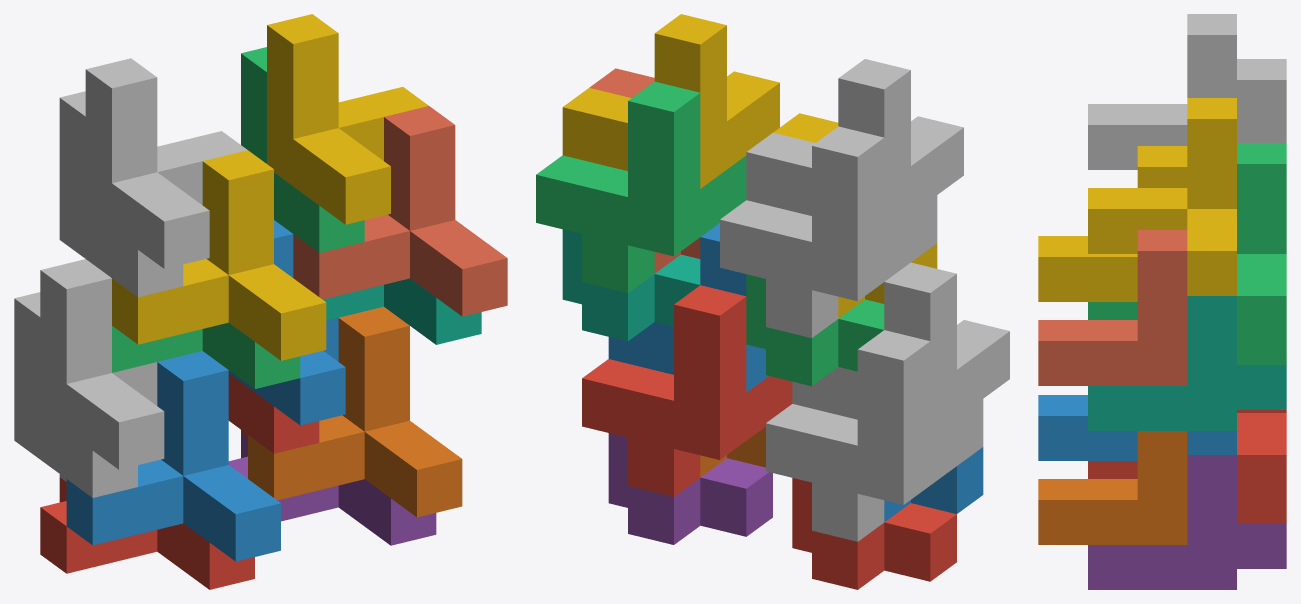
The model's file is tiling.obj.
3 renders of one model, left to right at view 1: azimuth 30°, elevation 25°; view 2: azimuth 150°, elevation 25°; view 3: azimuth 270°, elevation 25°, orthographic. The views are drawn at different scales.
Visible parts, largest first — view 1: copy_1_domain_4, copy_1_domain_2, copy_1_domain_8, copy_1_domain_6, copy_2_domain_4, copy_2_domain_8, copy_2_domain_2, copy_2_domain_1, copy_2_domain_3, copy_1_domain_1, copy_2_domain_7, copy_1_domain_3 (+4 smaller); view 2: copy_2_domain_1, copy_2_domain_3, copy_2_domain_7, copy_2_domain_5, copy_2_domain_4, copy_2_domain_8, copy_2_domain_2, copy_1_domain_1, copy_1_domain_5, copy_1_domain_7, copy_1_domain_3, copy_2_domain_6 (+4 smaller); view 3: copy_2_domain_8, copy_1_domain_8, copy_1_domain_5, copy_1_domain_7, copy_1_domain_6, copy_2_domain_7, copy_2_domain_4, copy_1_domain_4, copy_2_domain_5, copy_1_domain_2, copy_2_domain_3, copy_2_domain_6 (+2 smaller).
Part boxes in pixels (box(x1,y1,x2,y2)): copy_1_domain_4: box(112, 150, 326, 360); copy_1_domain_2: box(66, 351, 280, 561); copy_1_domain_8: box(293, 106, 507, 316); copy_1_domain_6: box(248, 306, 462, 517); copy_2_domain_4: box(85, 58, 247, 268); copy_2_domain_8: box(267, 14, 428, 224); copy_2_domain_2: box(40, 259, 164, 469); copy_2_domain_1: box(14, 292, 137, 497); copy_2_domain_3: box(59, 91, 183, 297); copy_1_domain_1: box(40, 477, 254, 589); copy_2_domain_7: box(241, 47, 364, 252); copy_1_domain_3: box(112, 322, 300, 388); copy_2_domain_1: box(766, 330, 983, 541); copy_2_domain_3: box(720, 126, 937, 337); copy_2_domain_7: box(536, 81, 746, 293); copy_2_domain_5: box(582, 285, 792, 496); copy_2_domain_4: box(746, 59, 963, 233); copy_2_domain_8: box(562, 14, 779, 188); copy_2_domain_2: box(792, 262, 1009, 436); copy_1_domain_1: box(792, 478, 956, 589); copy_1_domain_5: box(608, 433, 772, 544); copy_1_domain_7: box(562, 229, 700, 341); copy_1_domain_3: box(746, 274, 884, 386); copy_2_domain_6: box(608, 223, 768, 392); copy_2_domain_8: box(1088, 98, 1236, 295); copy_1_domain_8: box(1038, 230, 1187, 385); copy_1_domain_5: box(1088, 455, 1286, 589); copy_1_domain_7: box(1088, 296, 1286, 430); copy_1_domain_6: box(1038, 431, 1187, 544); copy_2_domain_7: box(1237, 143, 1286, 364); copy_2_domain_4: box(1088, 14, 1236, 169); copy_1_domain_4: box(1038, 146, 1187, 301); copy_2_domain_5: box(1237, 410, 1286, 523); copy_1_domain_2: box(1038, 395, 1137, 460); copy_2_domain_3: box(1237, 59, 1286, 142); copy_2_domain_6: box(1187, 431, 1236, 454).
Bounding box in the file's own units: 8 × 10 × 5.
